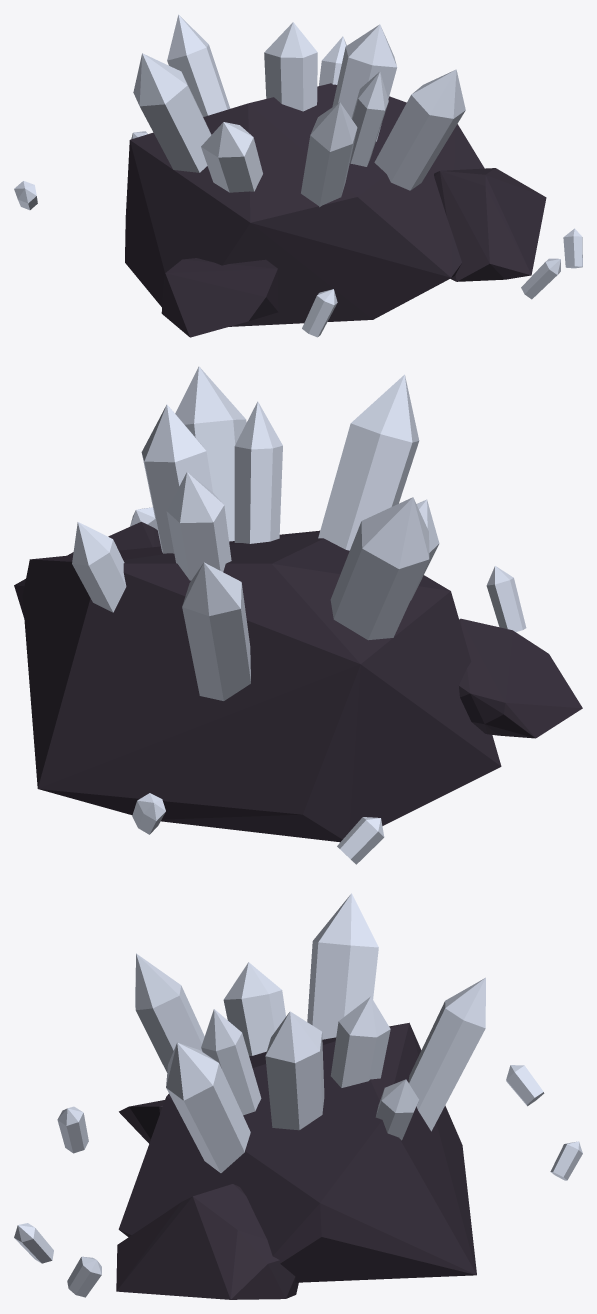
Rendered from Crystal_OreNode.obj.
3 renders of one model, top to bottom at view 1: azimuth 30°, elevation 25°; view 2: azimuth 150°, elevation 25°; view 3: azimuth 270°, elevation 25°, orthographic. The views are drawn at different scales.
Parts seen in each view (by area): view 1: Crystal_OreNode; view 2: Crystal_OreNode; view 3: Crystal_OreNode.
Part boxes in pixels (box(x1,y1,x2,y2)): Crystal_OreNode: box(14, 14, 582, 337); Crystal_OreNode: box(14, 366, 582, 864); Crystal_OreNode: box(14, 893, 582, 1299).
Size of the model in its own units: 1.27 by 0.715 by 1.38.
